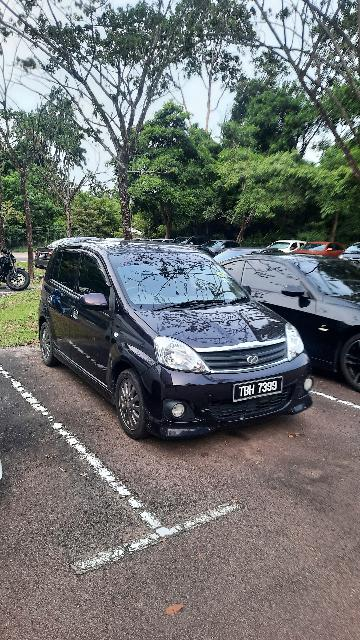License_Plate: (233, 376, 287, 405)
car: (38, 241, 317, 442), (209, 251, 360, 379)
